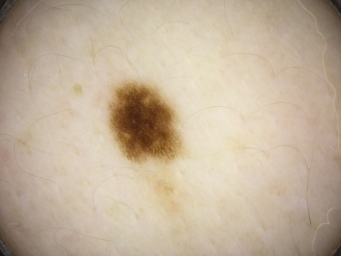melanoma: (109, 83, 181, 163)
